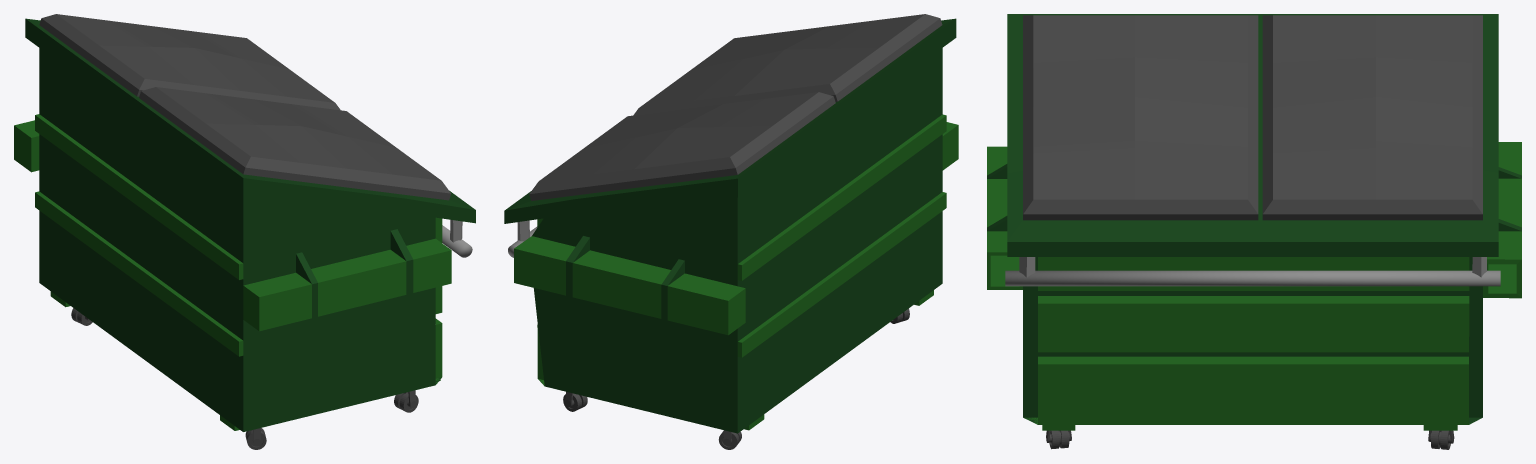
The model's file is BIN (1).fbx.
The picture shows the model from 3 angles, left to right: view 1: azimuth 30°, elevation 25°; view 2: azimuth 150°, elevation 25°; view 3: azimuth 270°, elevation 25°; orthographic projection. The views are drawn at different scales.
Parts seen in each view (by area): view 1: wheels; view 2: wheels; view 3: wheels.
Part boxes in pixels (bbox=[...]): wheels: bbox=[14, 14, 475, 449]; wheels: bbox=[504, 14, 958, 449]; wheels: bbox=[987, 14, 1521, 449].
Bounding box in the file's own units: 668 × 826 × 1175.
